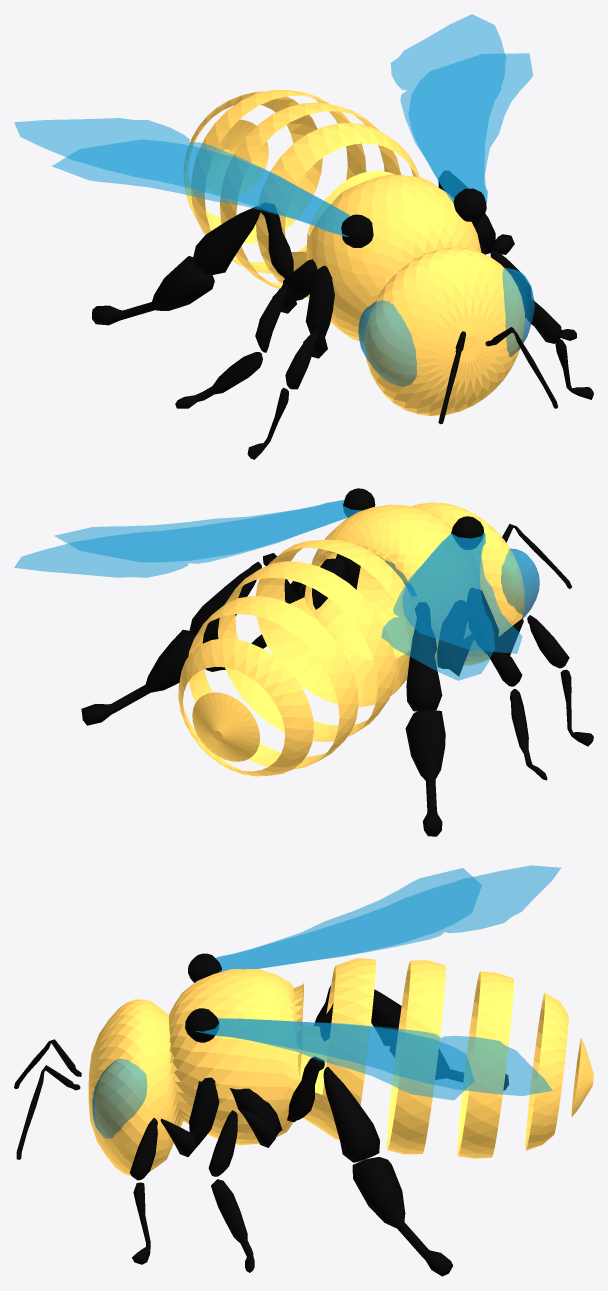
Rendered from AbeilleMarcheuse.fbx.
3 views of the same model, one above another, from view 1: azimuth 30°, elevation 25°; view 2: azimuth 150°, elevation 25°; view 3: azimuth 270°, elevation 25° (orthographic). The views are drawn at different scales.
Parts seen in each view (by area): view 1: BEE, AilesMarcheuse, PattesMarcheuse; view 2: BEE, AilesMarcheuse, PattesMarcheuse; view 3: BEE, AilesMarcheuse, PattesMarcheuse.
Boxes of the visible parts, left/top/right/bottom form: BEE: left=184, top=90, right=557, bottom=424; AilesMarcheuse: left=14, top=14, right=532, bottom=247; PattesMarcheuse: left=92, top=171, right=593, bottom=459; BEE: left=178, top=502, right=571, bottom=776; AilesMarcheuse: left=14, top=488, right=522, bottom=680; PattesMarcheuse: left=81, top=553, right=593, bottom=836; BEE: left=14, top=958, right=593, bottom=1175; AilesMarcheuse: left=185, top=865, right=560, bottom=1100; PattesMarcheuse: left=129, top=985, right=508, bottom=1276.
Size of the model in its own units: 6.5 by 2.96 by 6.83.
